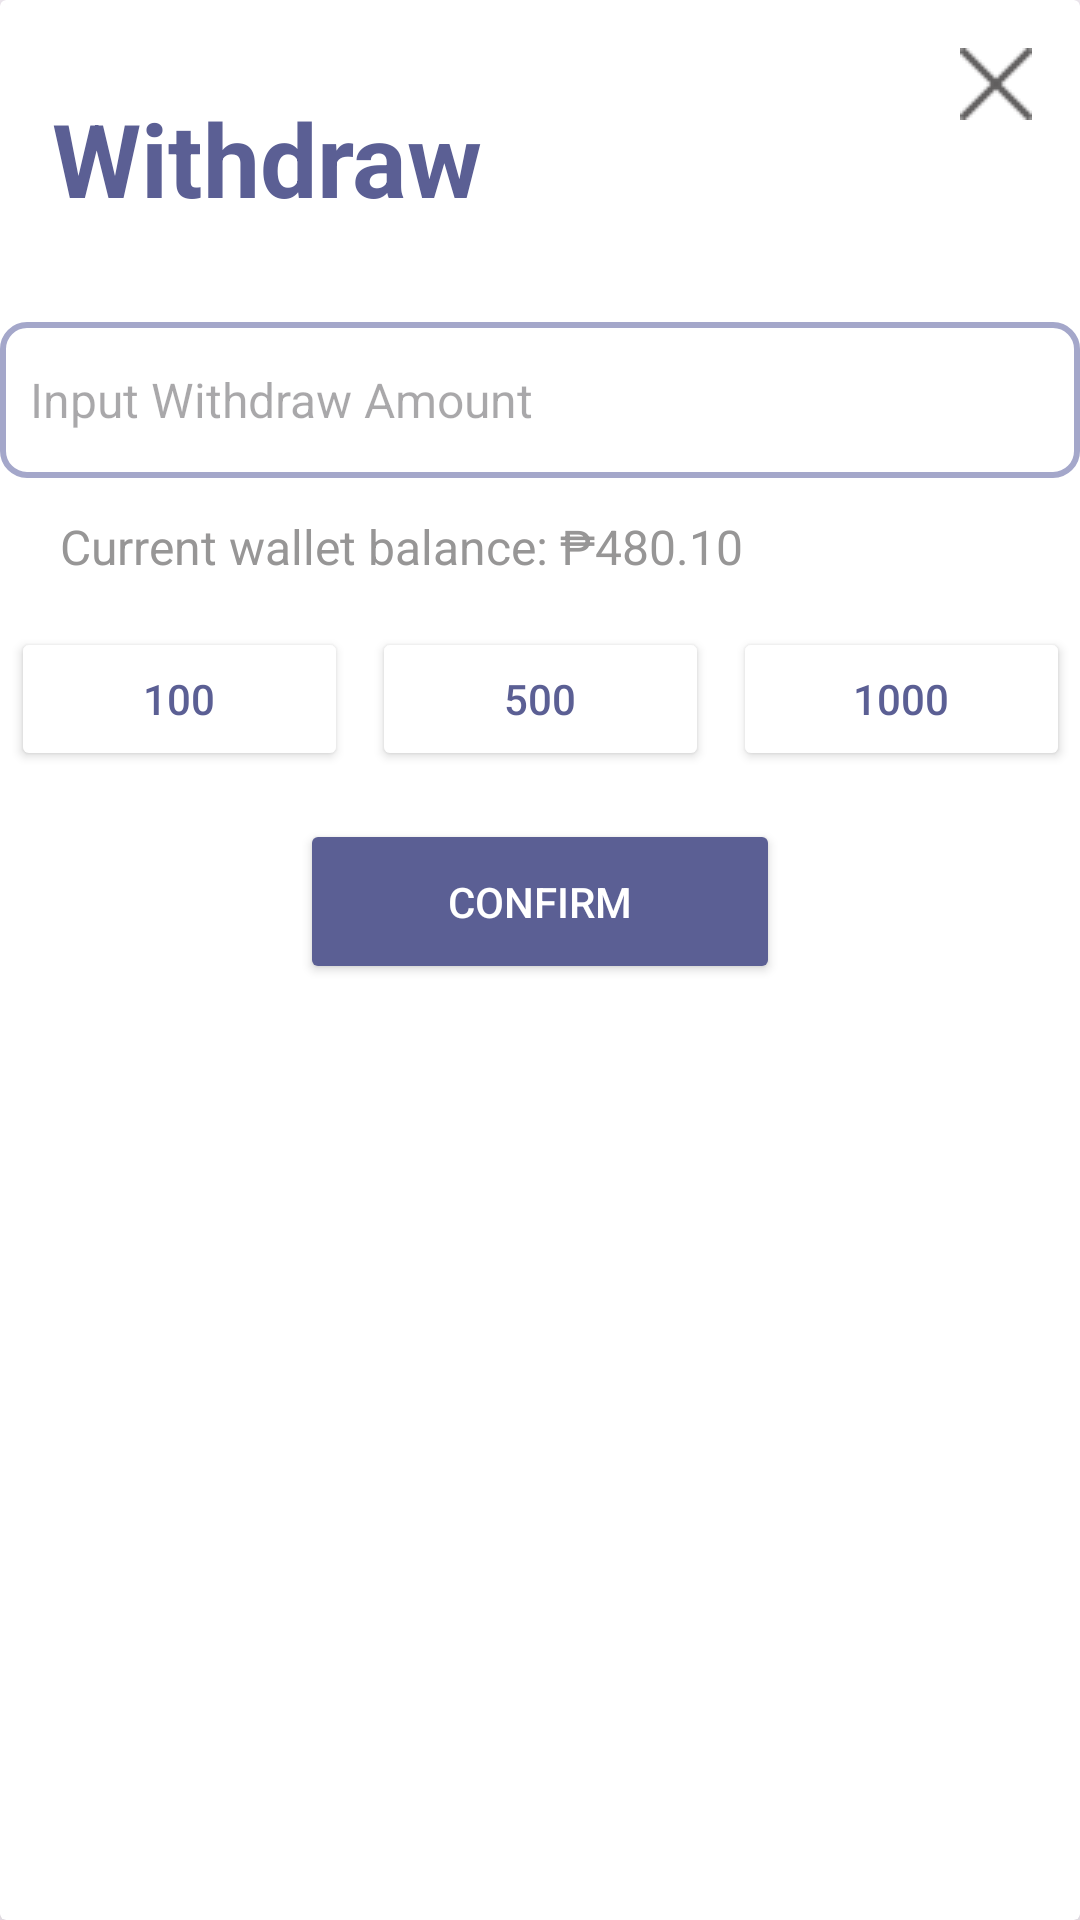

Named icons in this screenshot (1080x1920) and their centers, (x,y):
Close the dialog: (996,84)
